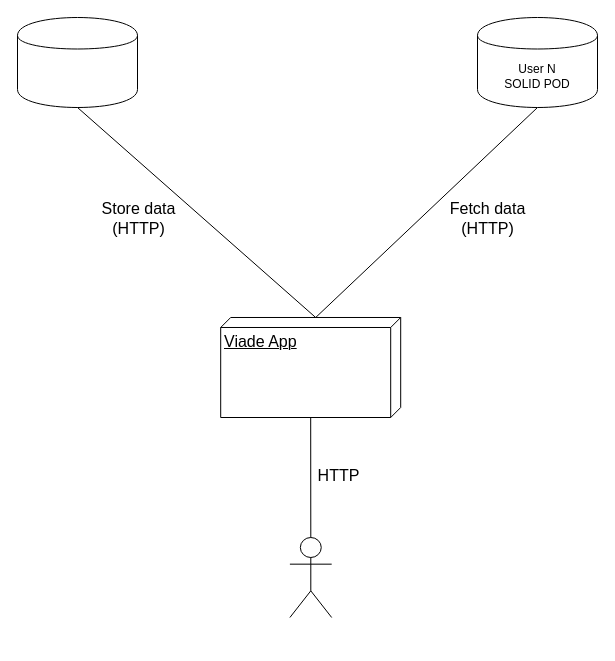
The diagram is 615 pixels wide and 661 high, and some of its shapes have lost their labels. Here are the shapes that lost their labels. From the top down, the centre of each, then its label:
point (77, 62): User 1 SOLID POD
point (310, 577): User 1
